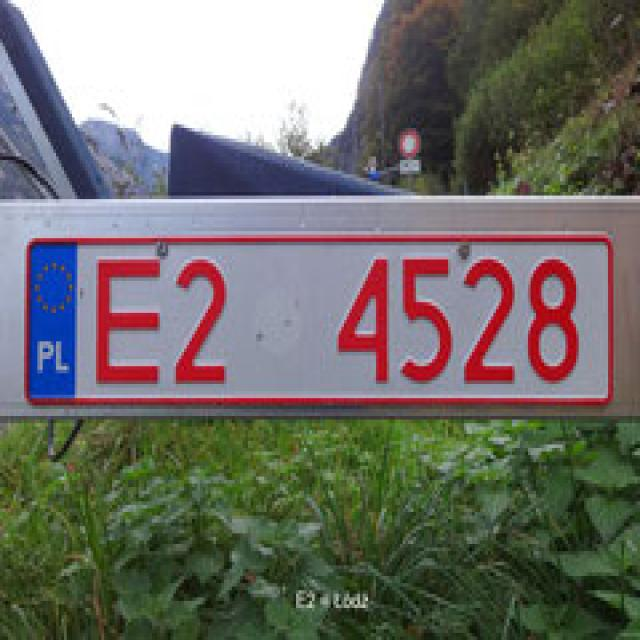pl_license_plate: (24, 235, 608, 398)
